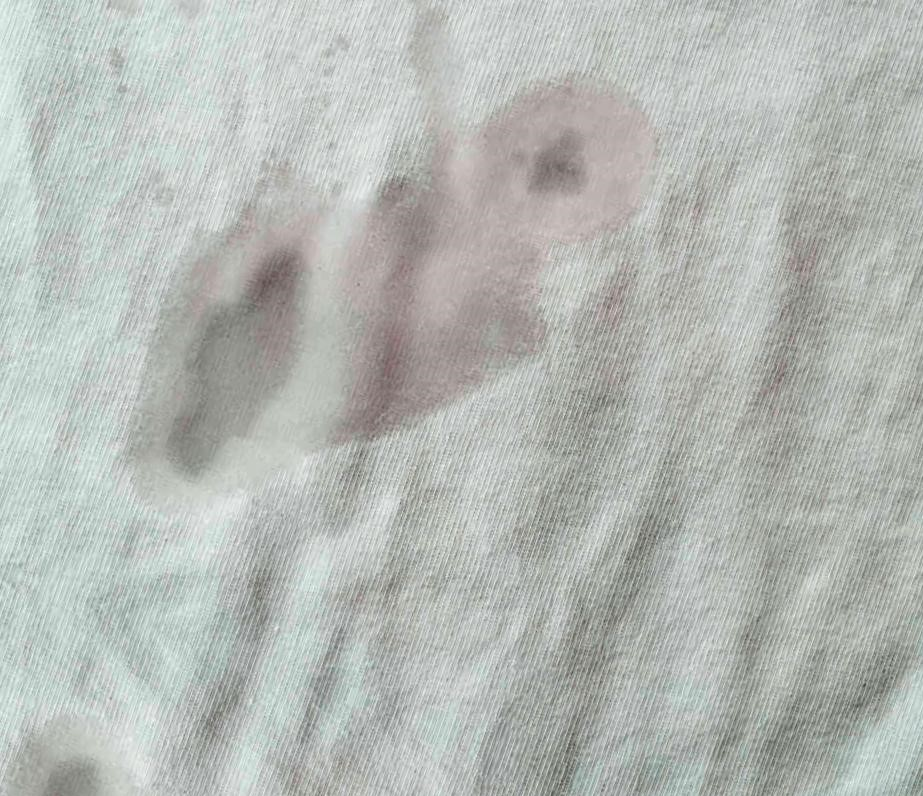stain: (109, 73, 682, 519), (0, 702, 175, 796)
